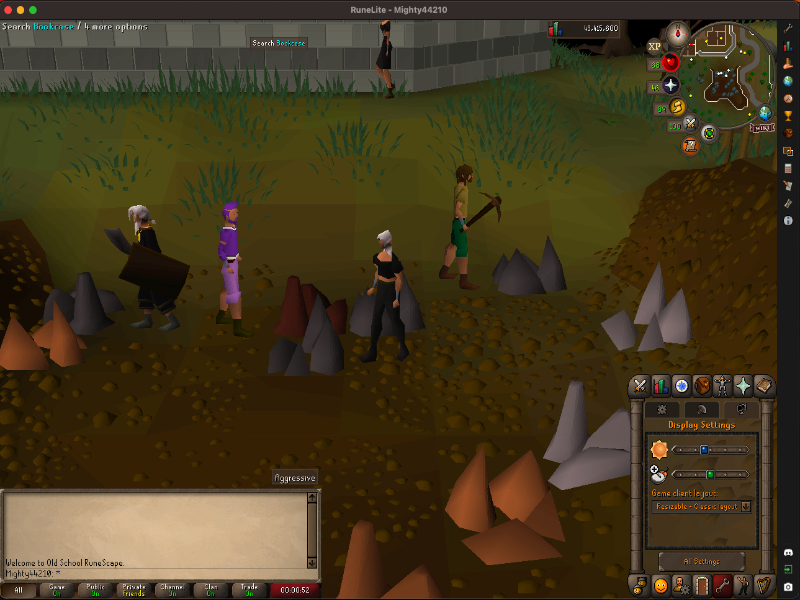iron: (286, 277, 304, 324)
